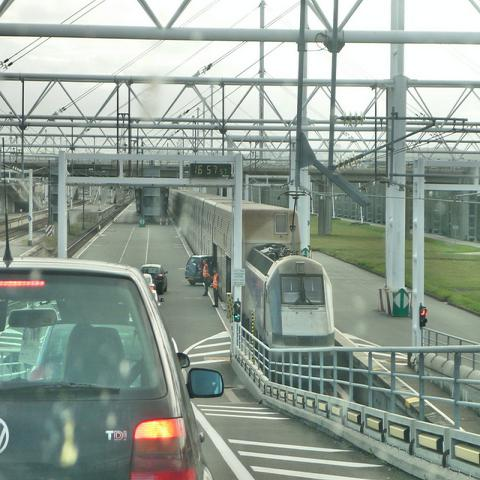car: (2, 255, 224, 474), (185, 256, 217, 286), (140, 265, 168, 295), (142, 273, 159, 306)
